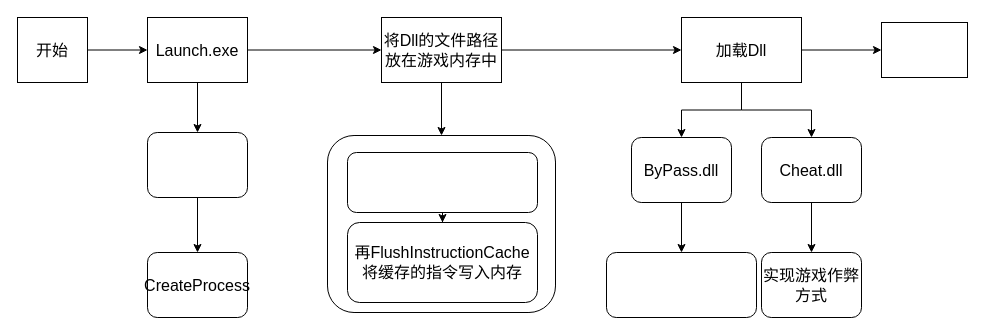
The diagram is 985 pixels wide and 335 high, and some of its shapes have lost their labels. The centre of each missing label's shape, as x and y in pixels:
先VirtualProtect修改游戏内存属性: the point at 442,182
加载驱动绕过 MiHoYoProtect.sys: the point at 681,285
打开游戏进程获得句柄: the point at 197,165
结束: the point at 924,50
